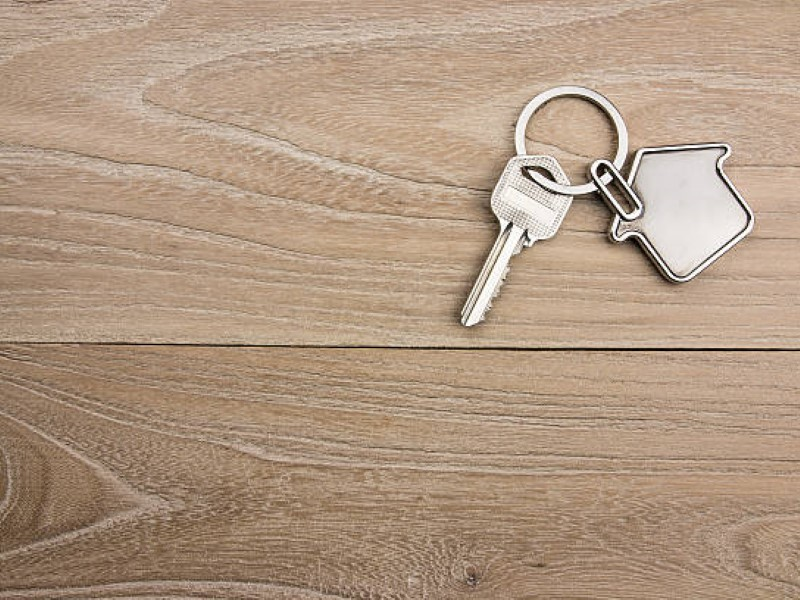key: (457, 153, 570, 329)
